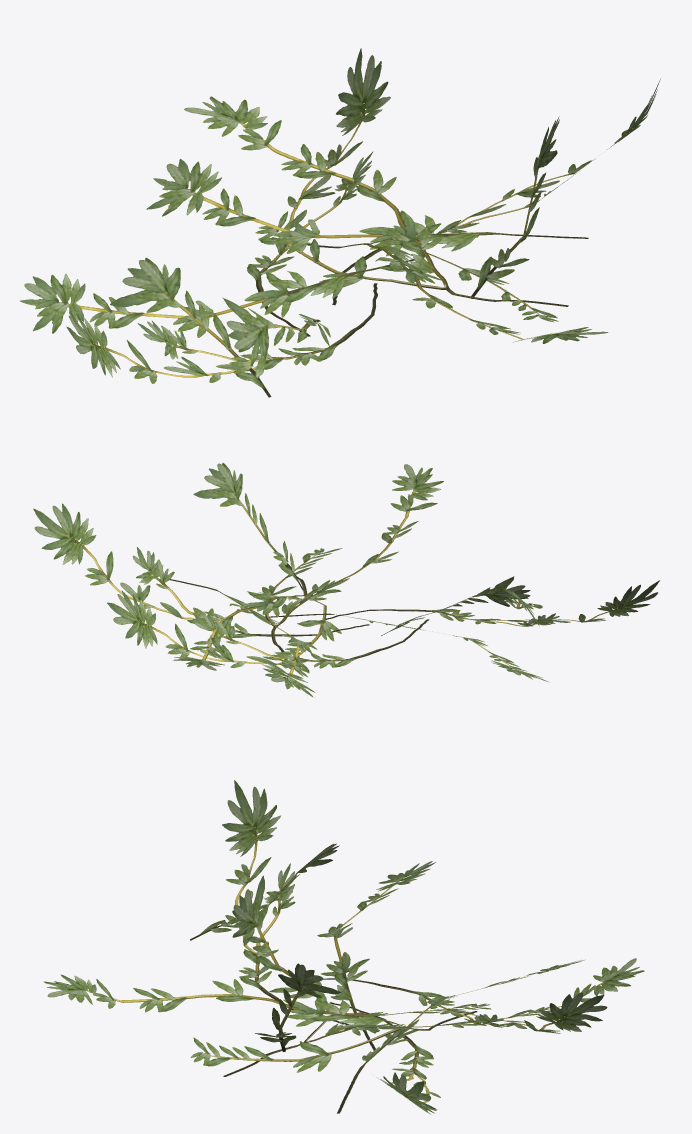
Rendered from weedwater_lod1.fbx.
3 views of the same model, one above another, from view 1: azimuth 30°, elevation 25°; view 2: azimuth 150°, elevation 25°; view 3: azimuth 270°, elevation 25° (orthographic). The views are drawn at different scales.
Visible parts, largest first — view 1: Mesh Object; view 2: Mesh Object; view 3: Mesh Object.
Boxes of the visible parts, x1,y1,x2,y2 form: Mesh Object: (20, 48, 660, 397); Mesh Object: (33, 463, 659, 697); Mesh Object: (44, 780, 644, 1114).
Size of the model in its own units: 3.49 by 0.891 by 3.2.
